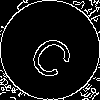C: (25, 25, 83, 83)
